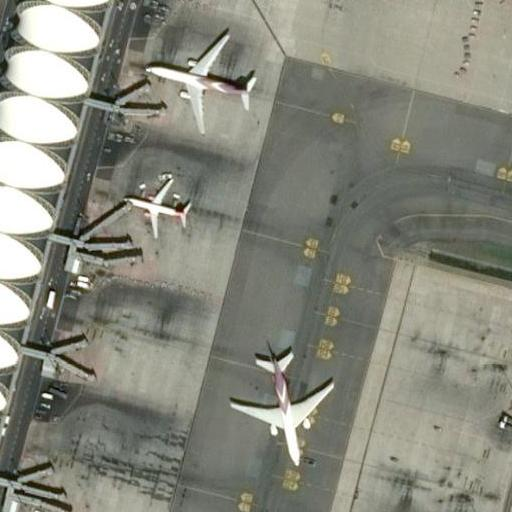Aircraft: (219, 340, 337, 468), (133, 28, 262, 135), (124, 179, 194, 239)
